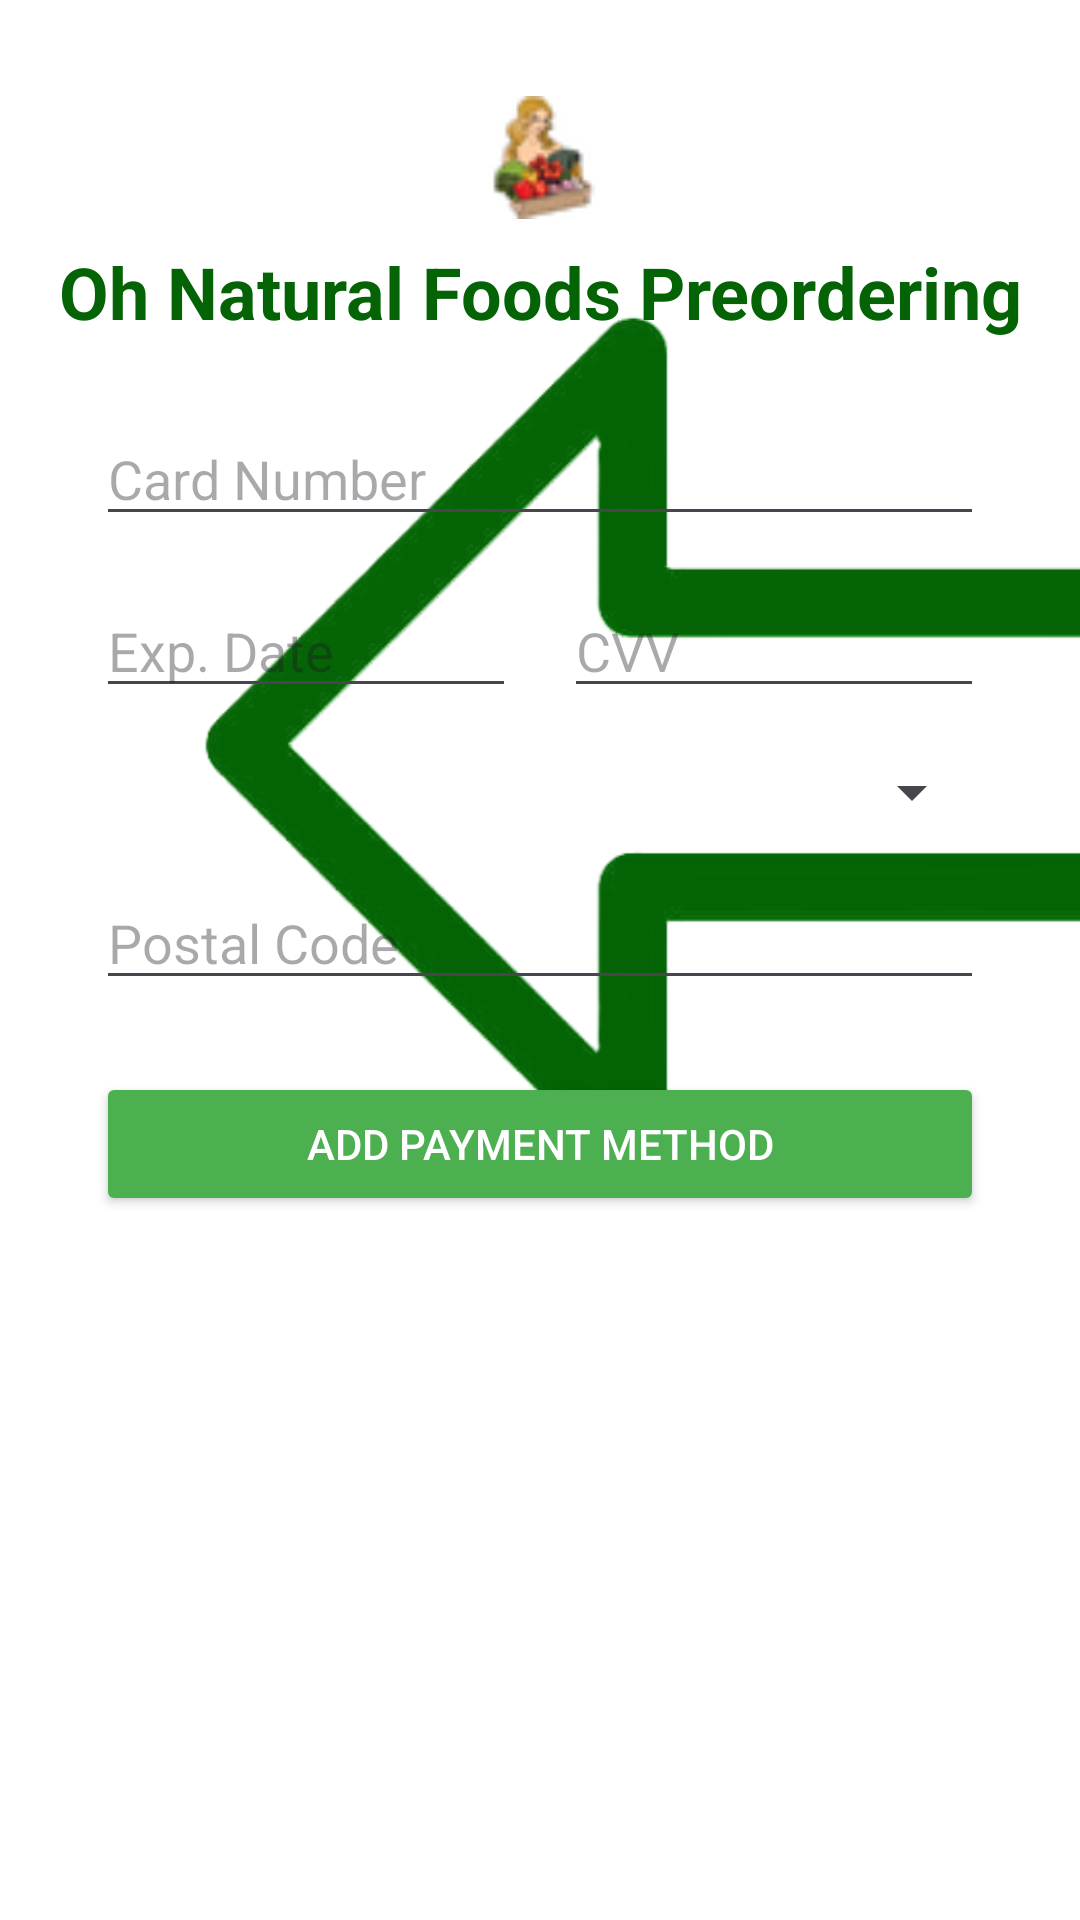

Icon bounding boxes for this 1080w x 1920h phone screenshot, format detection(x1, y1, x2, y2):
ohnaturalfoodsicon: detection(493, 96, 593, 219)
